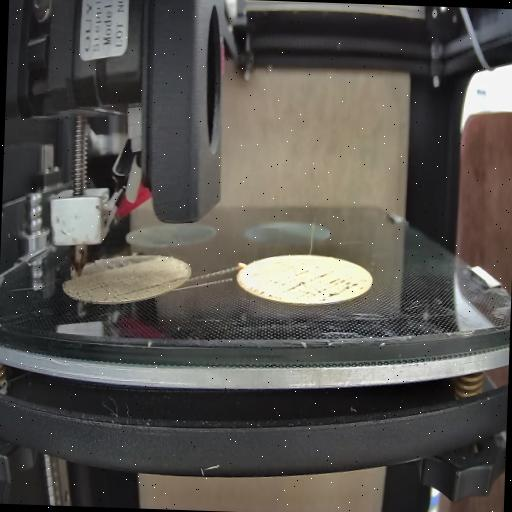under_extrusion: (246, 270, 370, 300), (118, 278, 182, 304), (57, 260, 83, 289)
